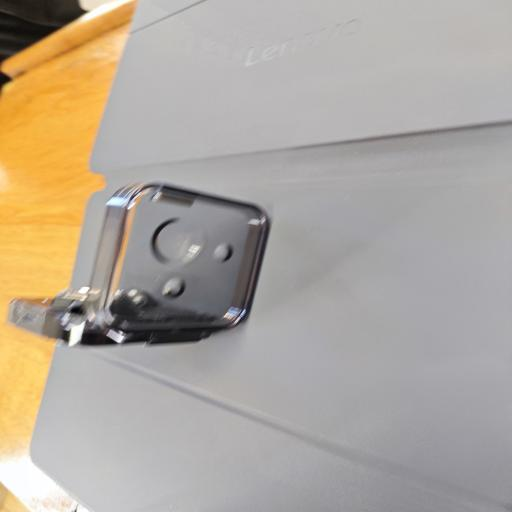Headphones: (4, 178, 278, 349)
